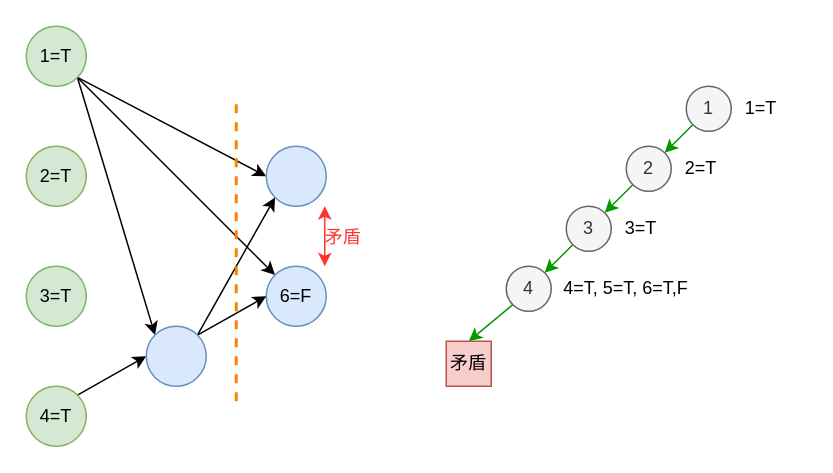
This 833x473 diagram has some shape labels left out. The centre of each missing label's shape, as x and y in pixels:
5=T: [175,355]
6=T: [295,175]
